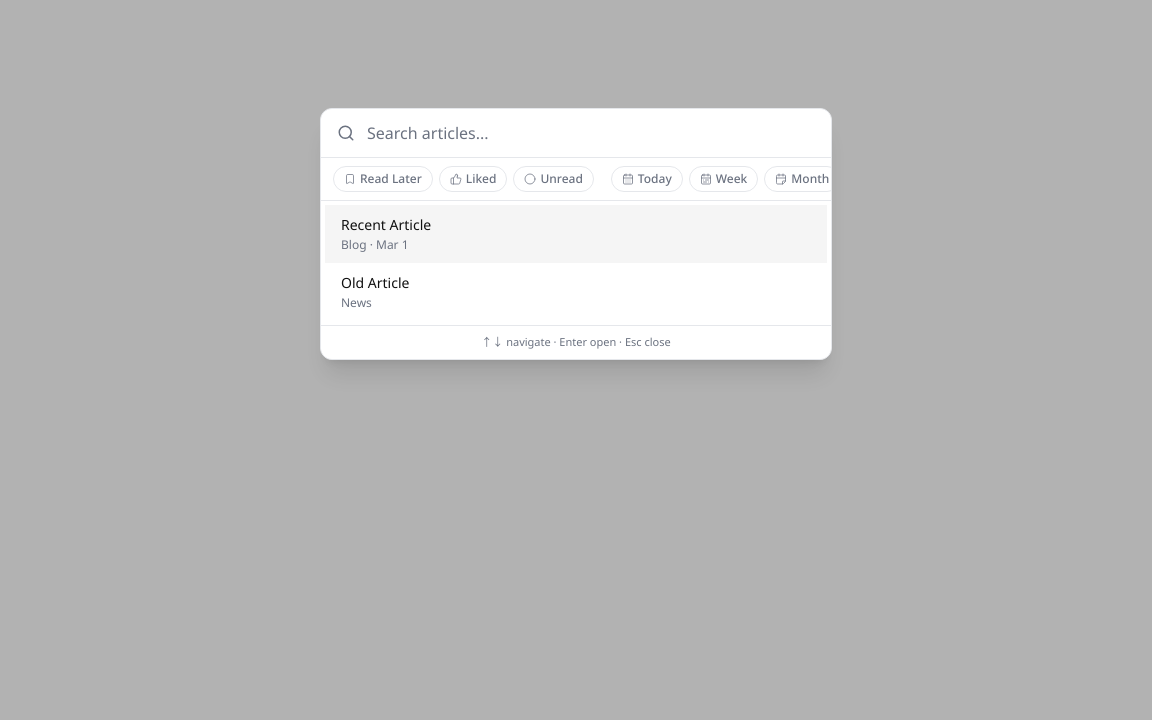
Test case: SearchDialog › shows no results message after empty search
Type "nonexistent" into the dropdown at coordinates (591, 133), box top-left (367, 109), bottom-right (815, 157)
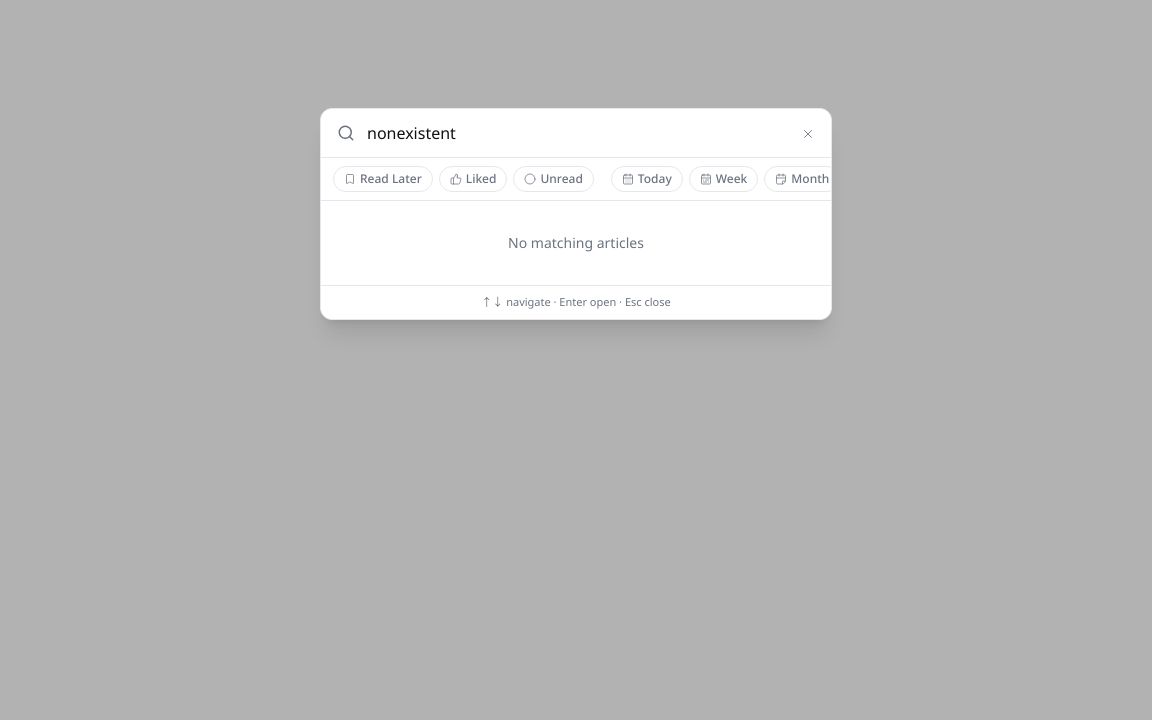
Expected: the text "No matching articles" is shown, top-left (508, 233), bottom-right (644, 252)
